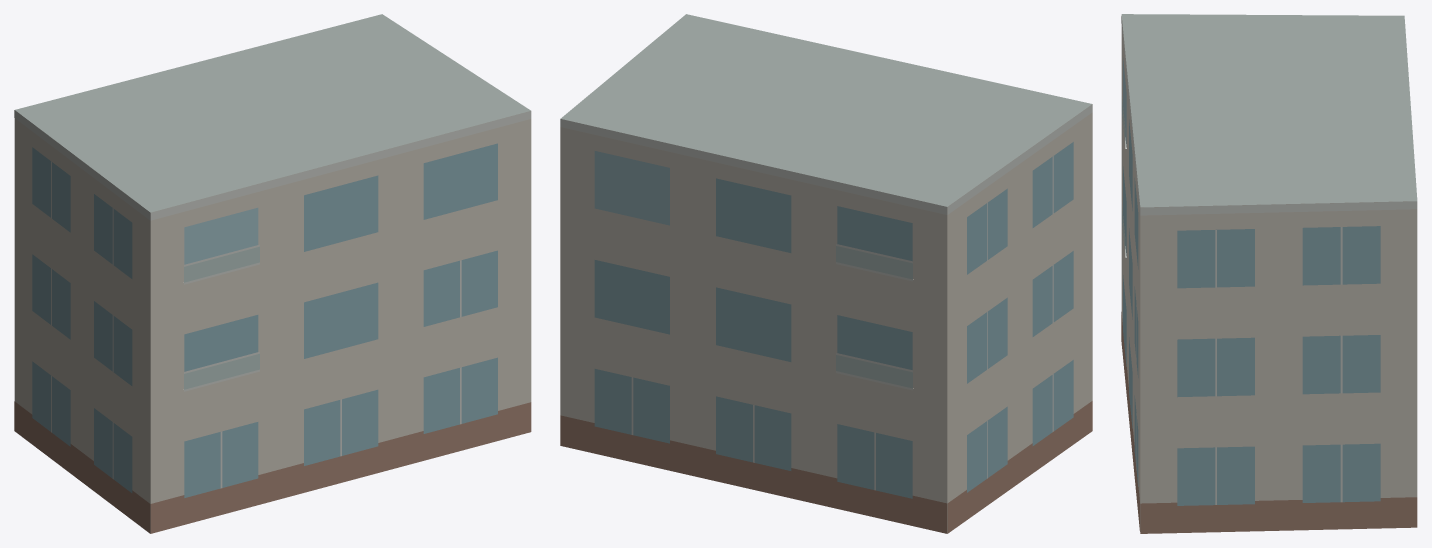
The model's file is survey-upis-32492163.glb.
3 views of the same model, side by side, from view 1: azimuth 30°, elevation 25°; view 2: azimuth 150°, elevation 25°; view 3: azimuth 270°, elevation 25° (orthographic).
Parts seen in each view (by area): view 1: survey-upis-32492163.tmp; view 2: survey-upis-32492163.tmp; view 3: survey-upis-32492163.tmp.
Part boxes in pixels (x1,y1,x2,y2): survey-upis-32492163.tmp: (14,14,531,533); survey-upis-32492163.tmp: (560,14,1092,533); survey-upis-32492163.tmp: (1121,14,1417,533).
Bounding box in the file's own units: 12.34 × 9.7 × 7.98.
